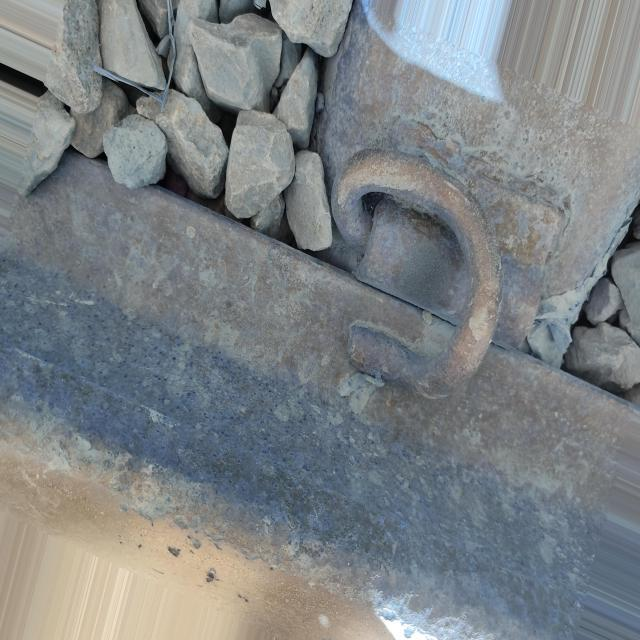Good Fasteners: (315, 114, 578, 423)
